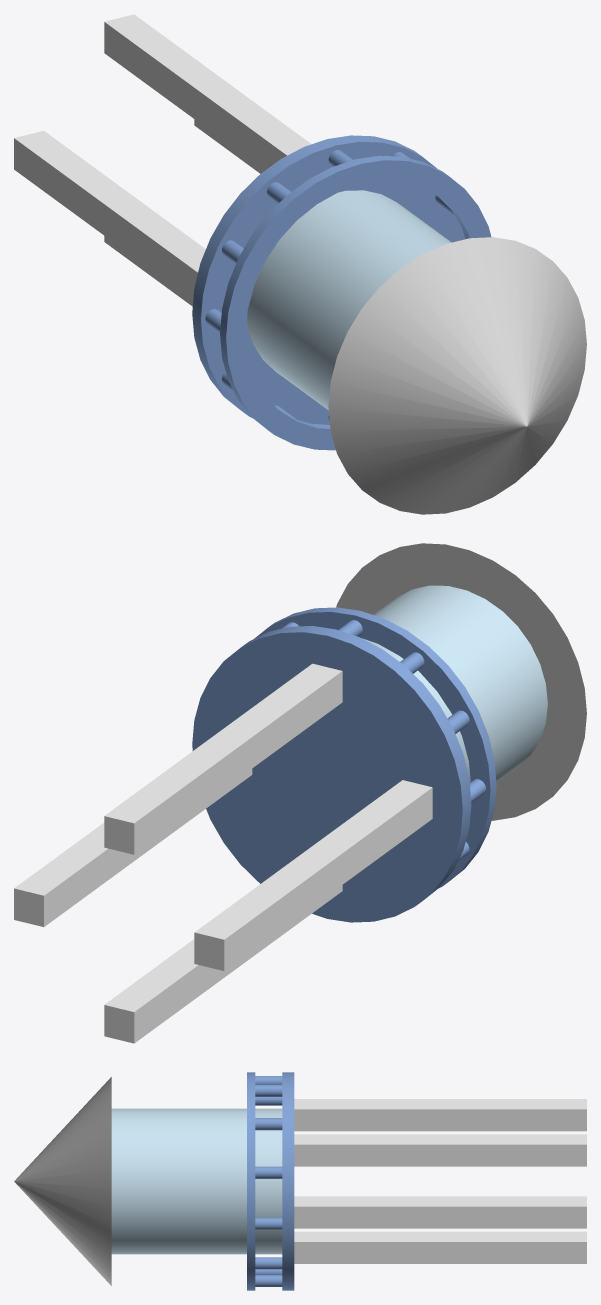
The model's file is Trial.gltf.
3 renders of one model, top to bottom at view 1: azimuth 30°, elevation 25°; view 2: azimuth 150°, elevation 25°; view 3: azimuth 270°, elevation 25°, orthographic. The views are drawn at different scales.
Parts seen in each view (by area): view 1: Roof, Terrace, Base, Pillar (×2); view 2: Terrace, Pillar (×4), Roof, Base; view 3: Pillar (×4), Base, Roof, Terrace.
Boxes of the visible parts, x1,y1,x2,y2 form: Roof: (328,237,586,514); Terrace: (192,135,491,450); Base: (247,190,451,409); Pillar (×2): (14,14,311,300); Terrace: (192,607,496,922); Pillar (×4): (14,663,432,1043); Roof: (336,543,586,820); Base: (362,585,547,782); Pillar (×4): (294,1099,586,1263); Base: (111,1108,282,1254); Roof: (14,1077,111,1285); Terrace: (247,1072,294,1290).
Bounding box in the file's own units: 0.1143 × 0.1143 × 0.2984.
